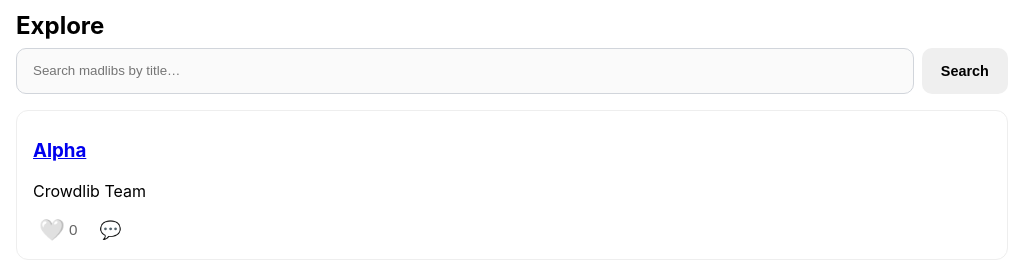
Test: Explore (simple, stable tests) › search submits to the server and shows results
The image size is (1024, 277).
Expected: the link "Alpha" is shown, [33,139,86,162]
Note: Fill input
Type "cat" into the field labelled "Search madlibs by title…".
click(465, 71); type("cat")  # box [16,48,914,94]
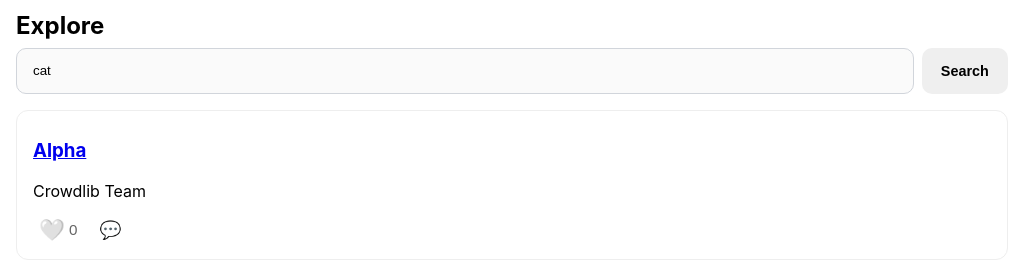
Note: Submit search
Submit the form from the button "Search", box [922,48,1008,94]
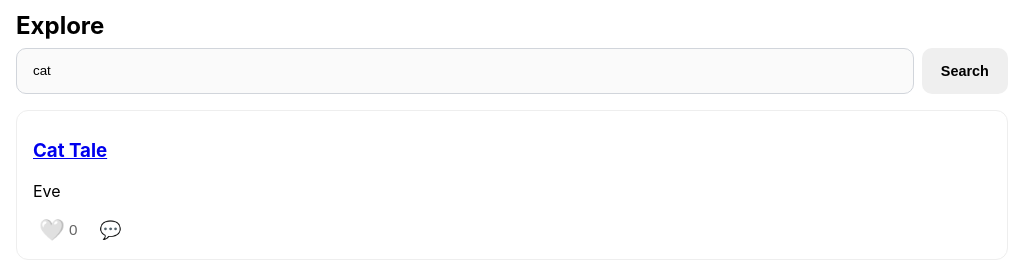
Expected: the link "Cat Tale" is shown, [33,139,107,162]
